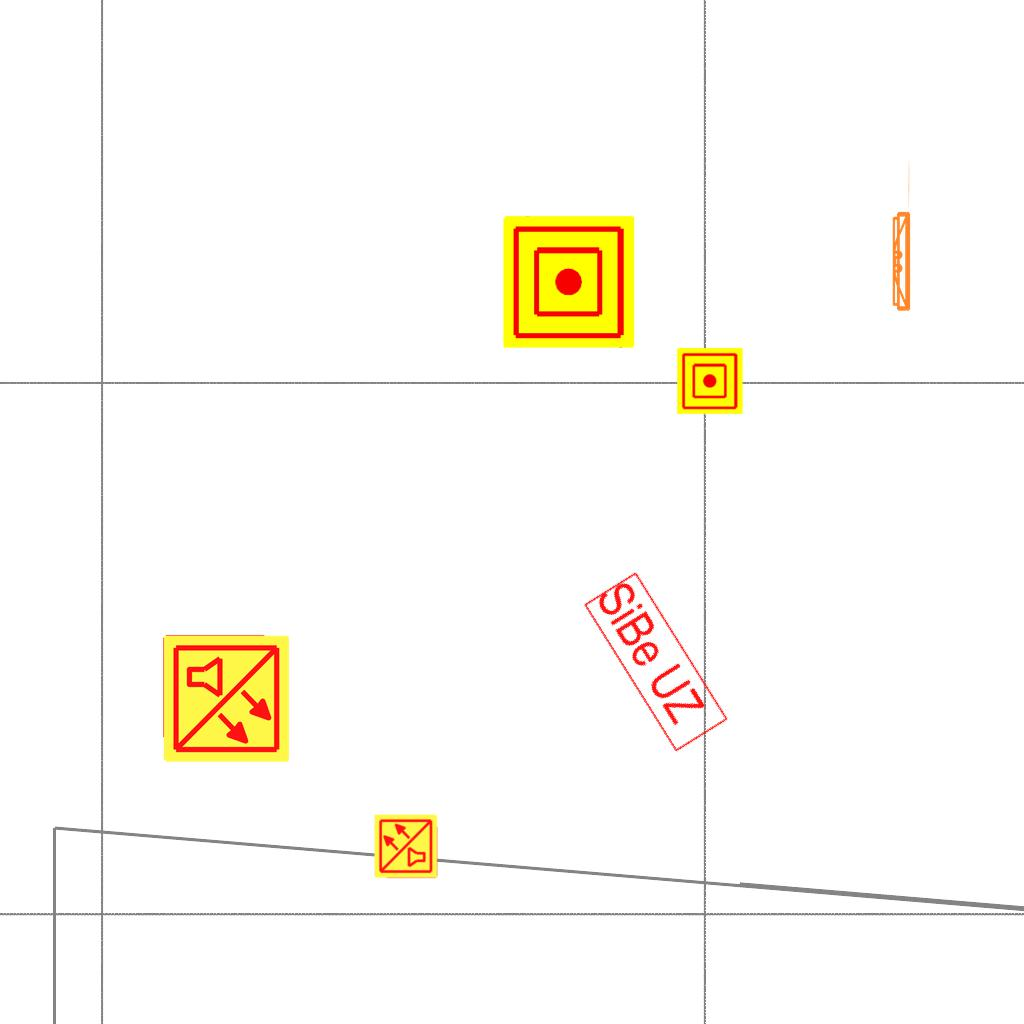NAM-Nichtautomatischer_Melder: (503, 216, 635, 348), (677, 348, 743, 414)
OKW_Multisensormelder_(Kombination_optischer_Rauch-Kahlenmonoxid_Waerme-Melder): (160, 633, 292, 765), (373, 813, 439, 879)
Sicherheitsleuchte_Wandeinbau: (888, 157, 913, 316)
Zentrale_Sicherheitsbeleuchtung: (581, 569, 731, 756)
